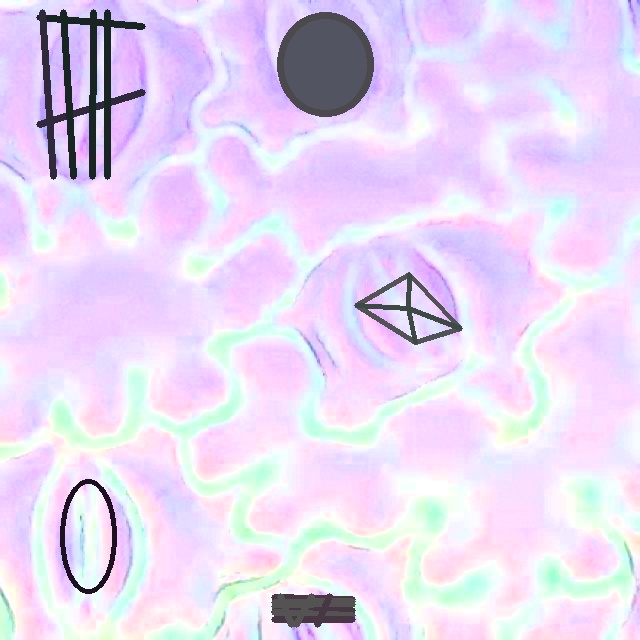open: (36, 9, 145, 179), (276, 12, 373, 115), (354, 272, 462, 344), (59, 478, 117, 593), (272, 594, 354, 626)
